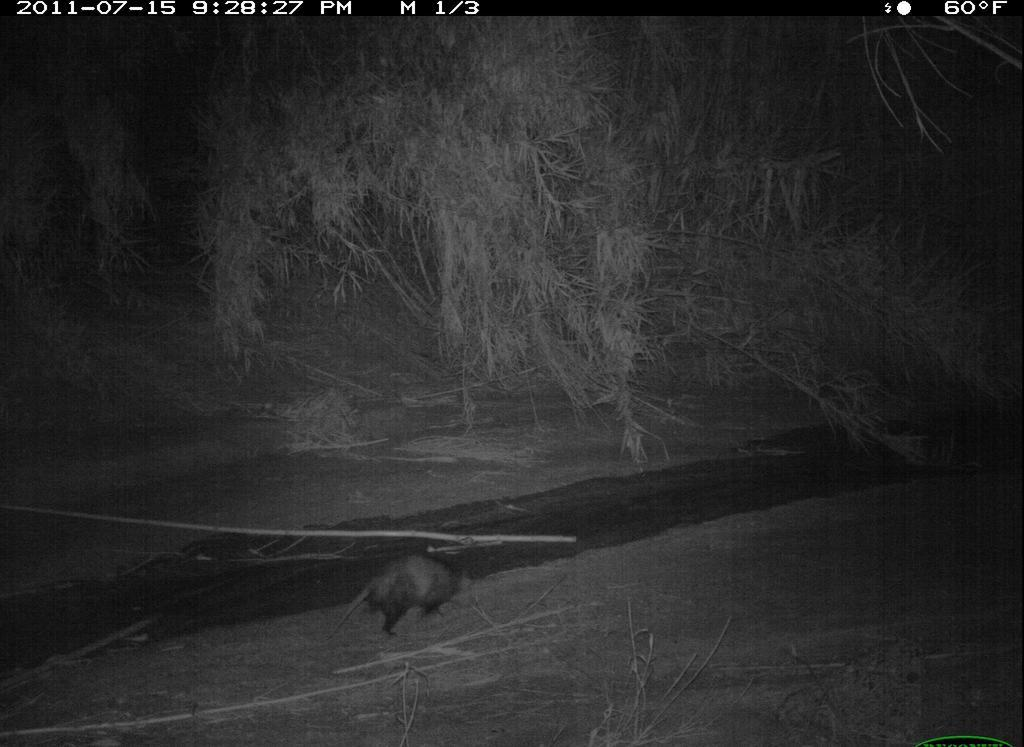opossum: (329, 551, 488, 656)
